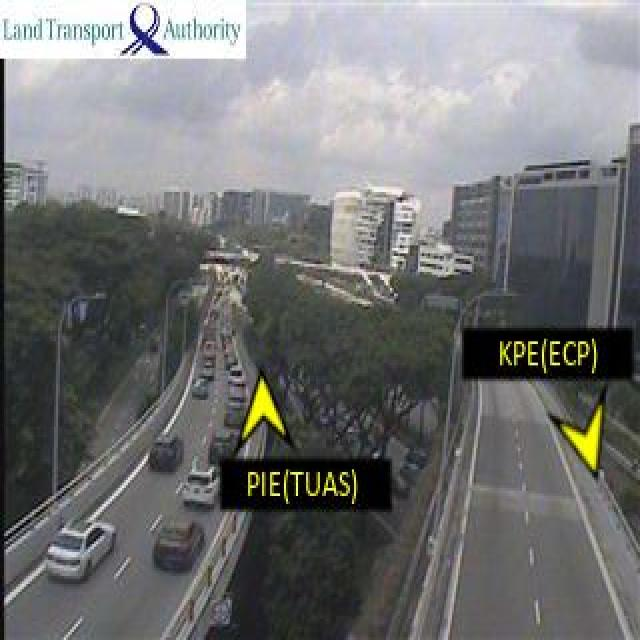-vehicles: (48, 520, 115, 576), (155, 518, 203, 570), (186, 457, 220, 510), (205, 423, 240, 462), (146, 434, 180, 474), (222, 390, 250, 430), (224, 376, 251, 396), (191, 378, 211, 402), (225, 362, 246, 376), (196, 366, 215, 381)
